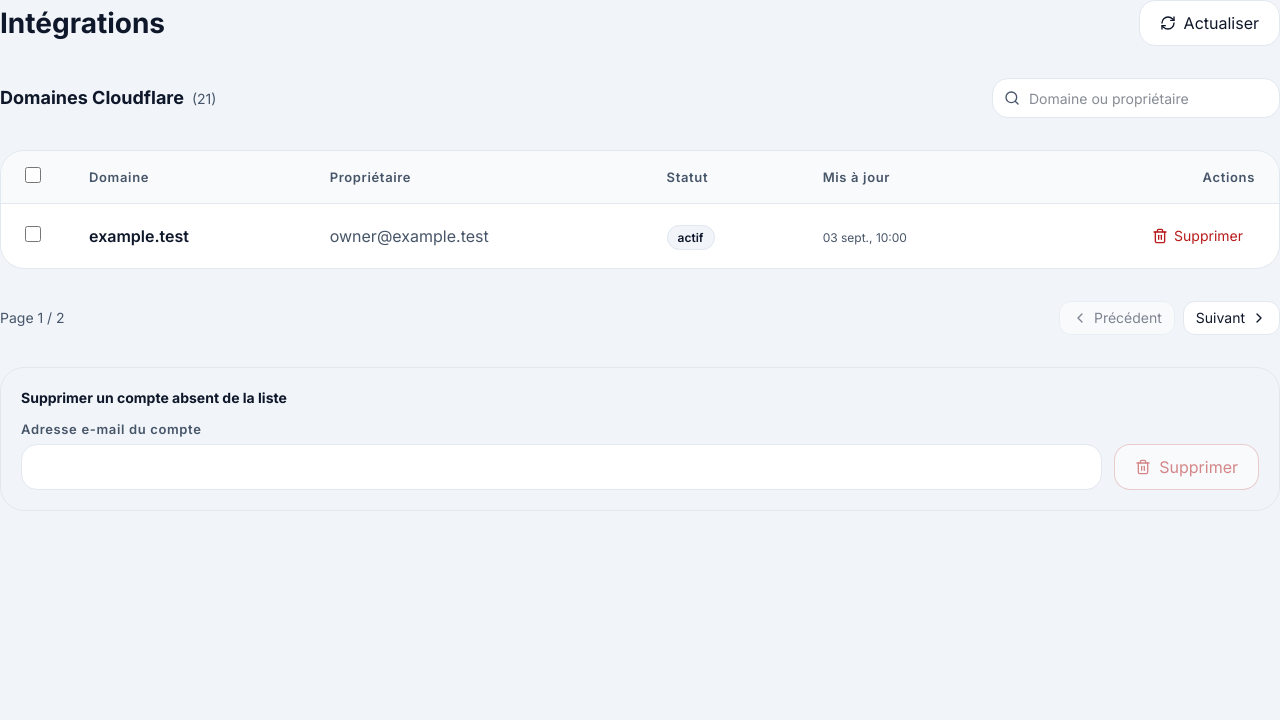
Test: account erasure from the console › deletes the ticked accounts from the selection button
The width and height of the screenshot is (1280, 720).
Expected: the button "Supprimer (" is not shown
Click the checkbox named "Sélectionner tous les comptes de la page": point(33, 175) [25,167,41,183]
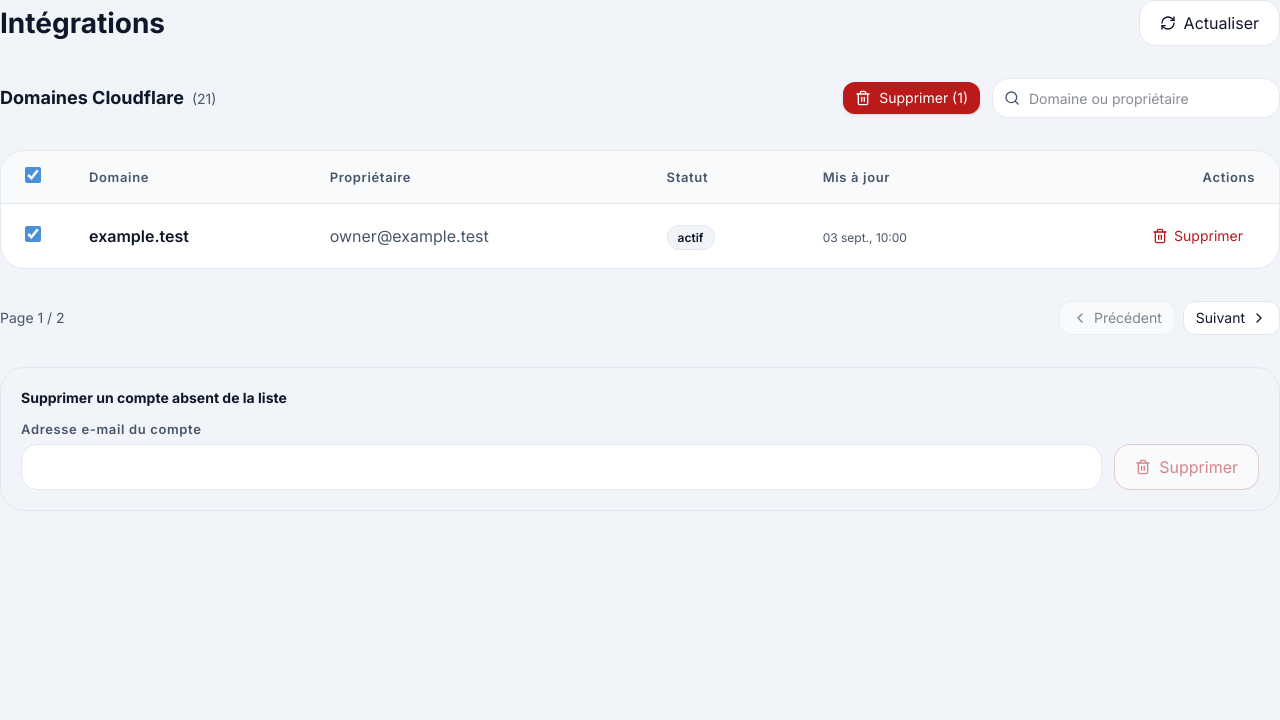
Expected: the checkbox named "Sélectionner le compte owner@example.test" is checked, [25,226,41,242]
Click the button "Supprimer (1)": point(912, 98) [843,82,980,114]
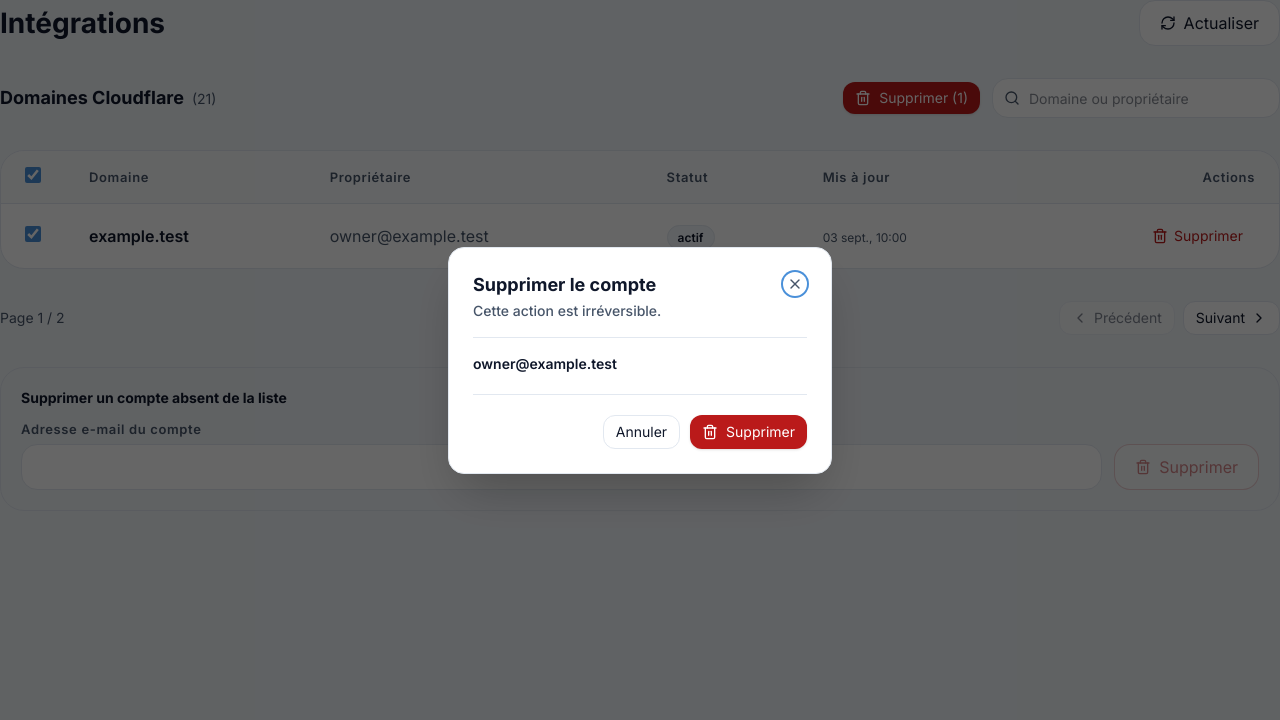
Click the button "Supprimer": point(749, 432) [690,414,807,448]
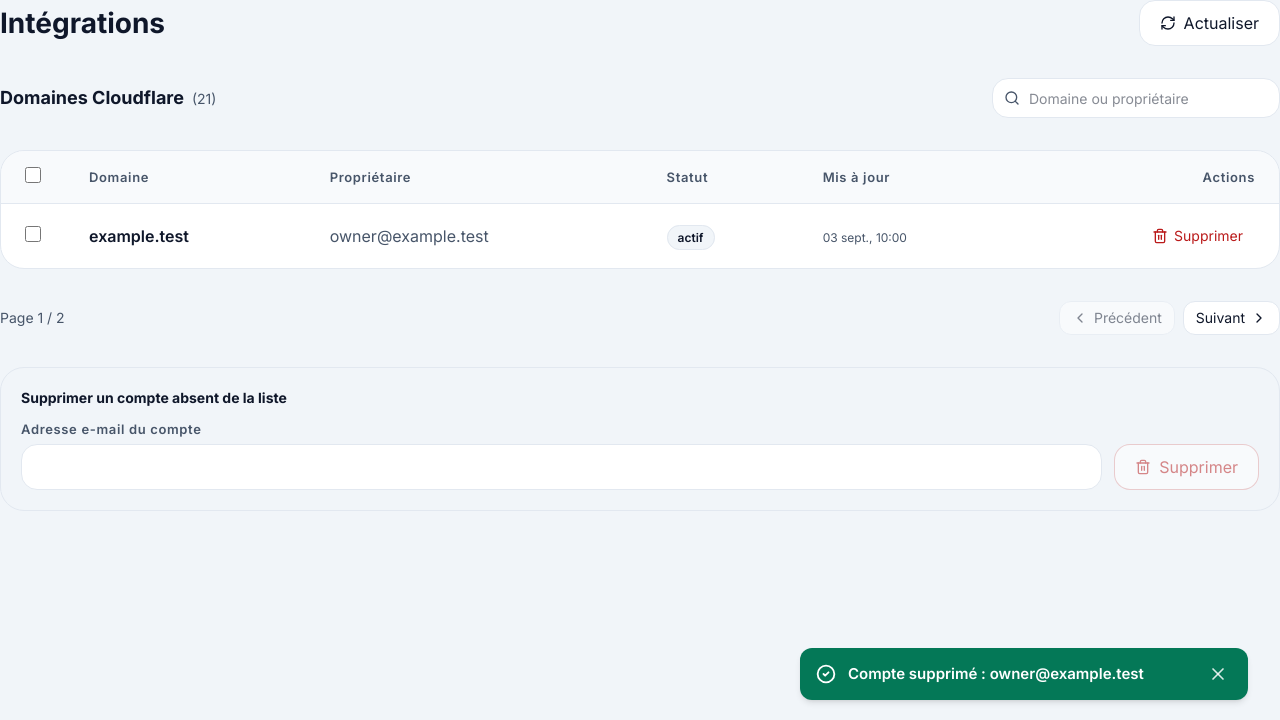
Expected: the button "Supprimer (" is gone
